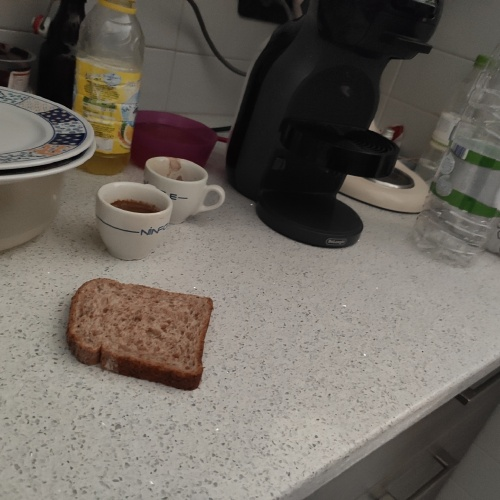pane: (60, 277, 221, 389)
